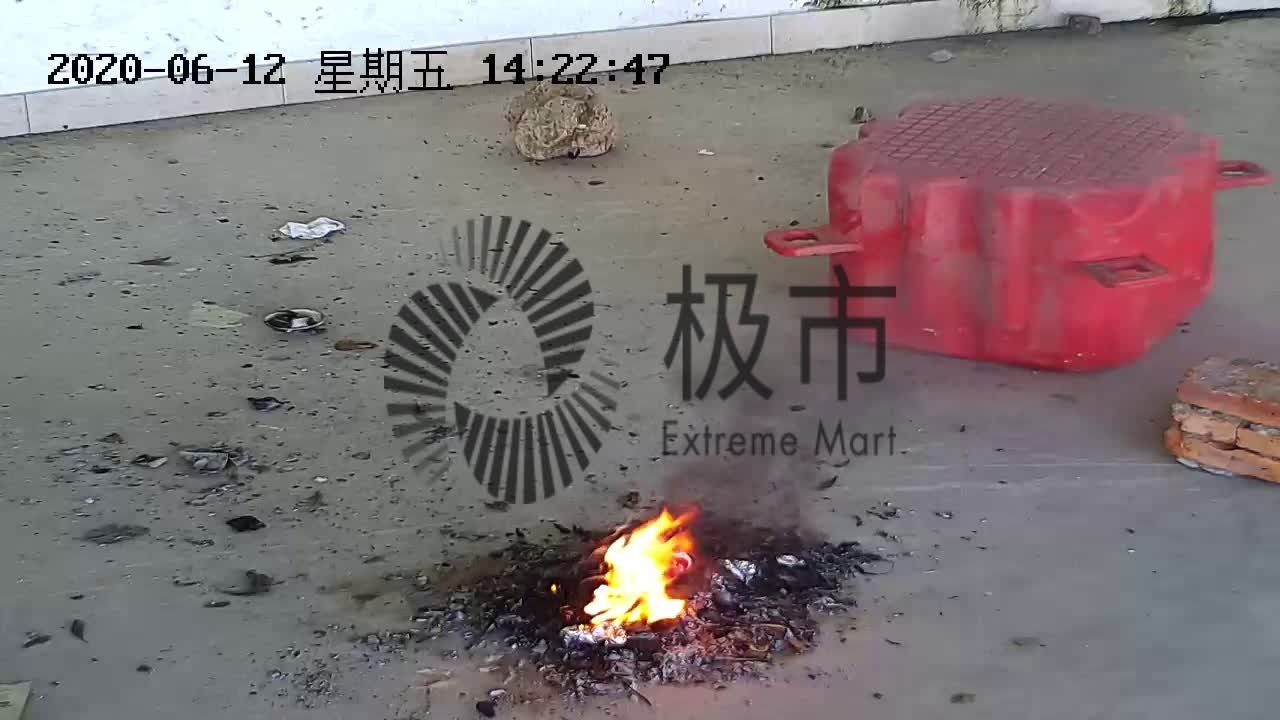fire: (573, 508, 705, 639)
